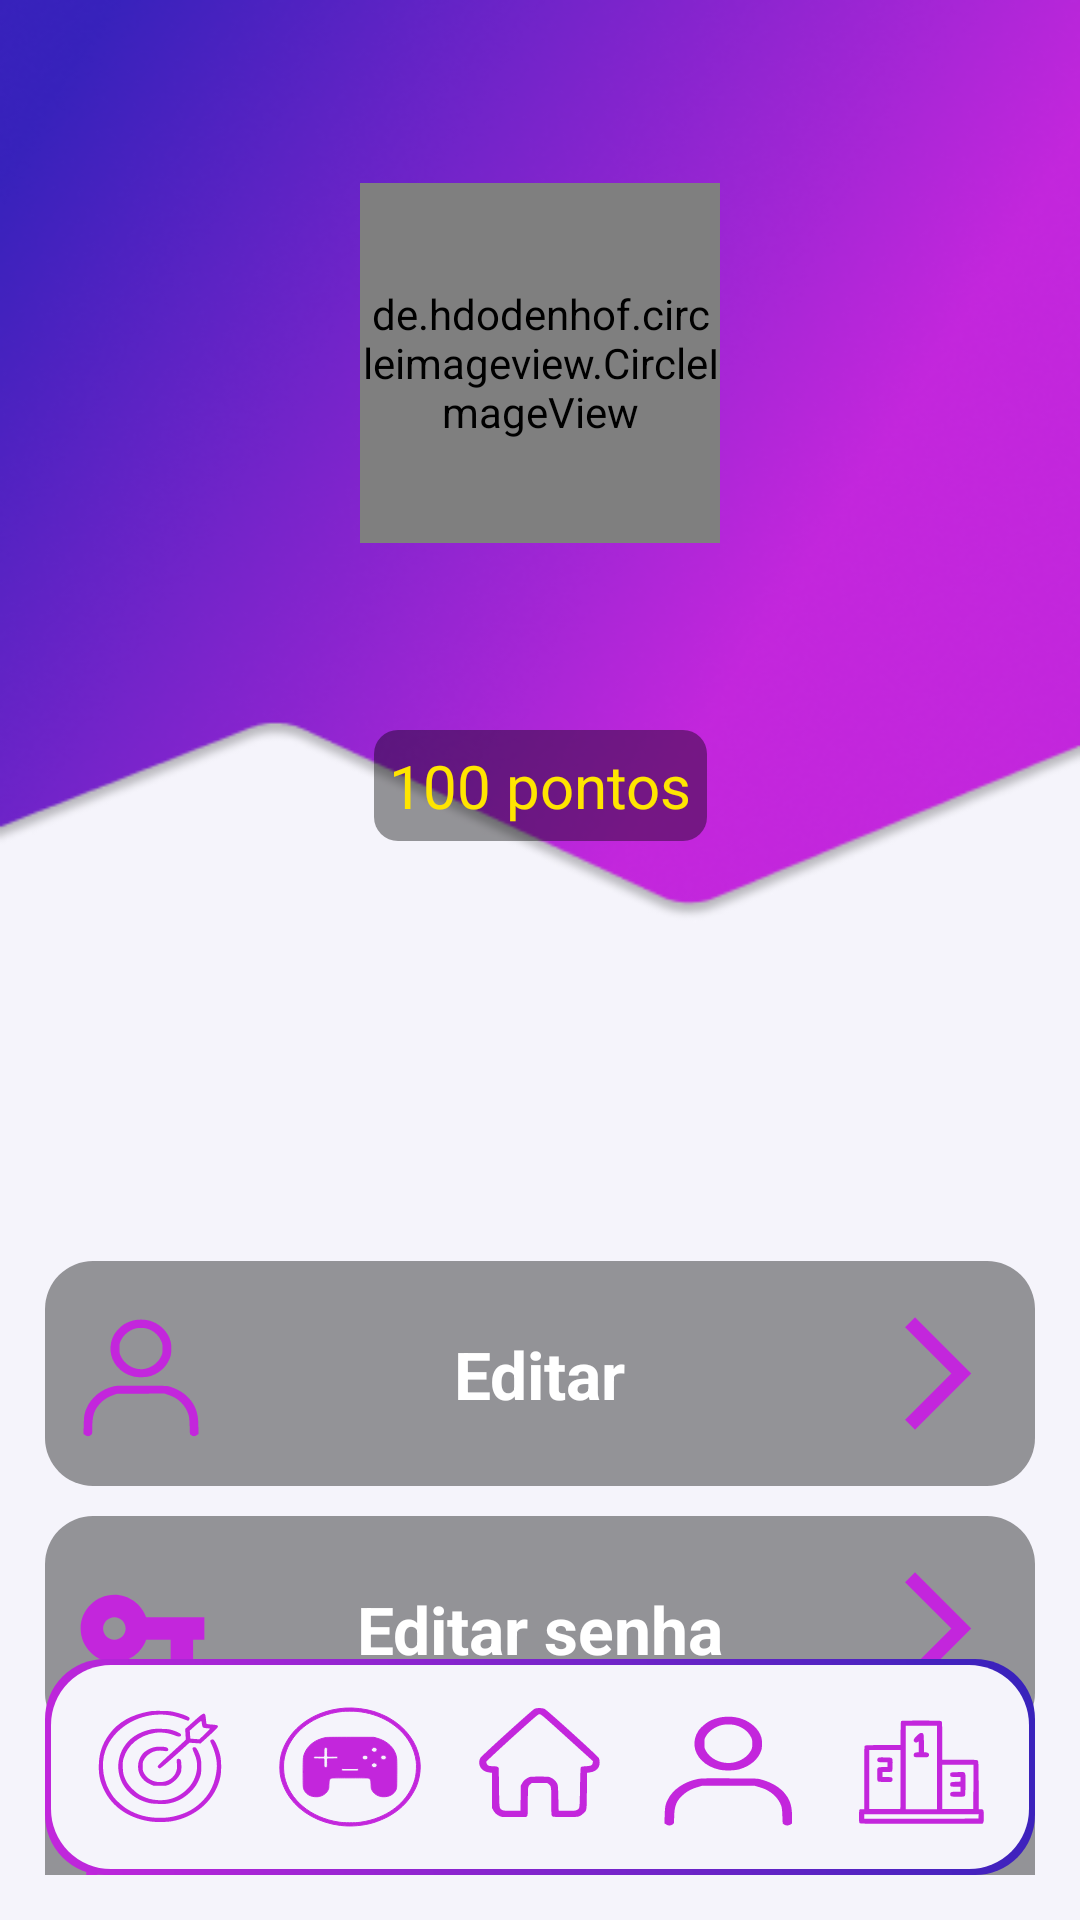

Screen size 1080px×1920px. Icon name, then its box in pixels as box(x1, y1, x2, y2):
control: box(279, 1707, 421, 1827)
home: box(479, 1708, 600, 1817)
person: box(83, 1319, 199, 1436), box(664, 1716, 792, 1826)
ranking: box(859, 1720, 984, 1824)
target: box(98, 1710, 222, 1822)
